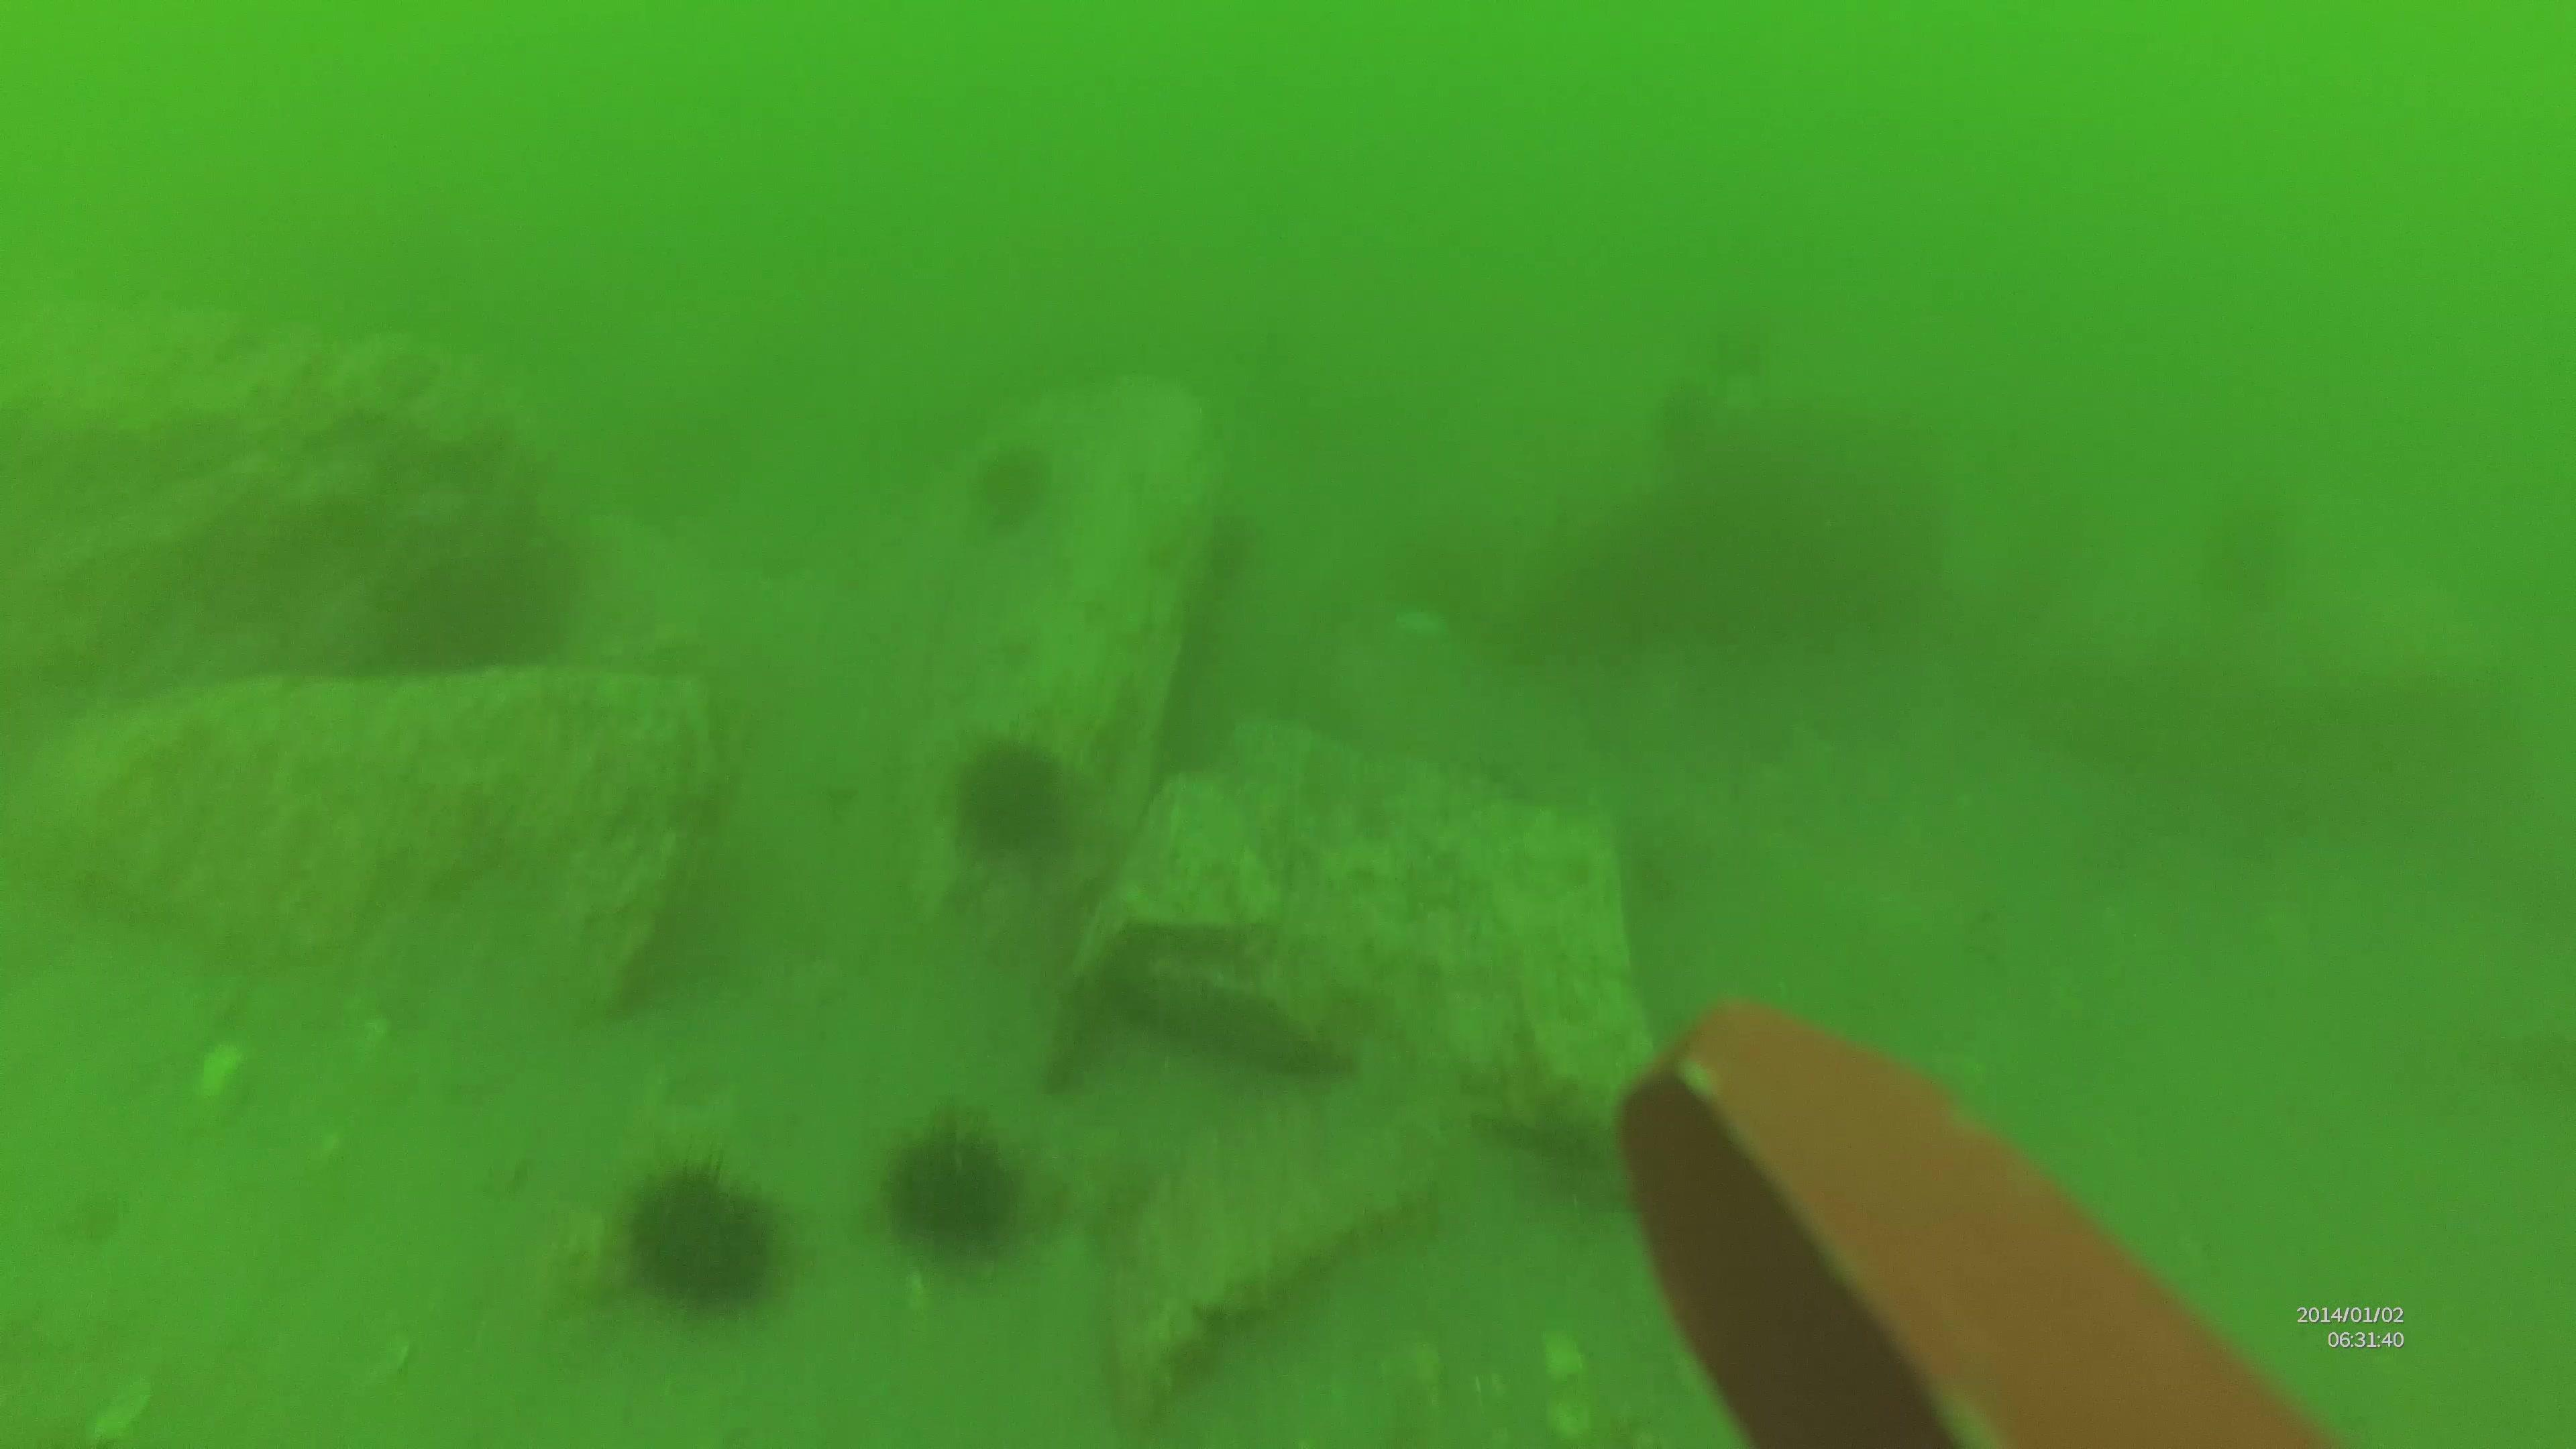echinus: (598, 1161, 791, 1299), (888, 1109, 1040, 1251), (941, 736, 1081, 846), (952, 444, 1051, 525)
